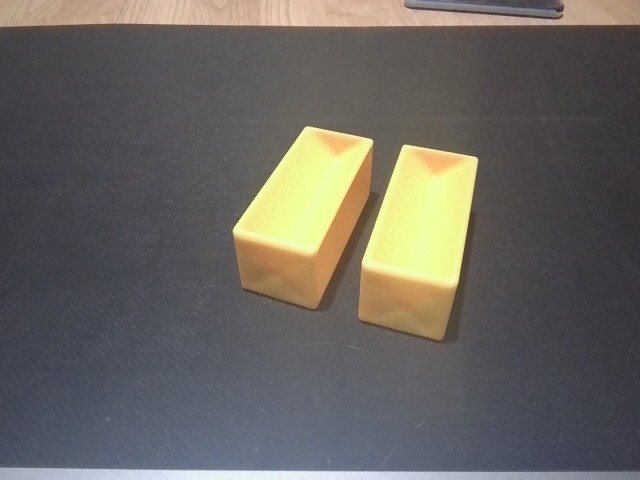YellowSample: (227, 120, 376, 315), (355, 140, 483, 346)
